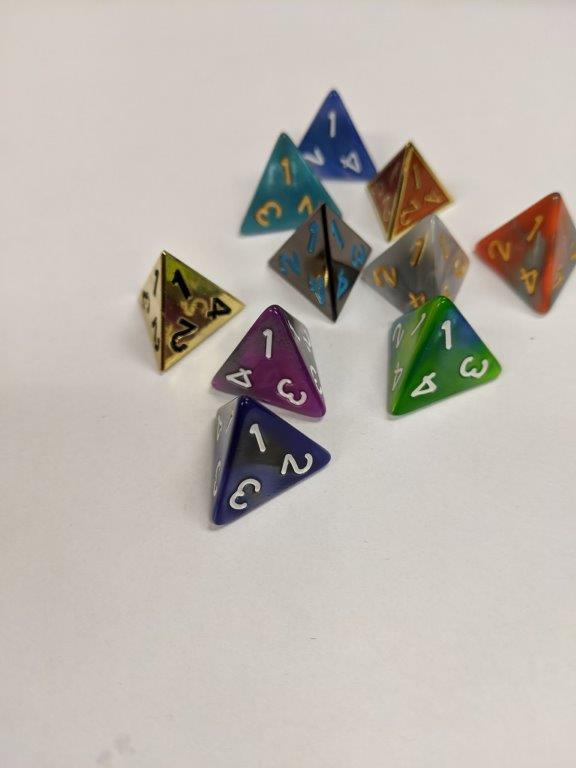d4-1: (206, 394, 333, 531), (388, 295, 505, 421), (134, 246, 247, 375), (265, 204, 378, 322), (475, 190, 576, 319), (212, 305, 328, 417), (358, 213, 472, 324), (238, 131, 342, 232), (367, 134, 455, 240), (291, 86, 379, 187)
